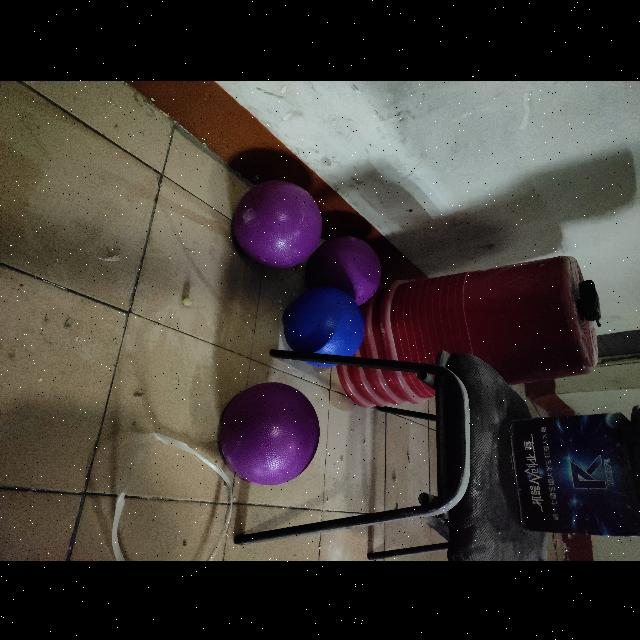B: (282, 283, 368, 367)
P: (218, 382, 322, 486), (229, 180, 323, 270), (304, 232, 381, 306)
